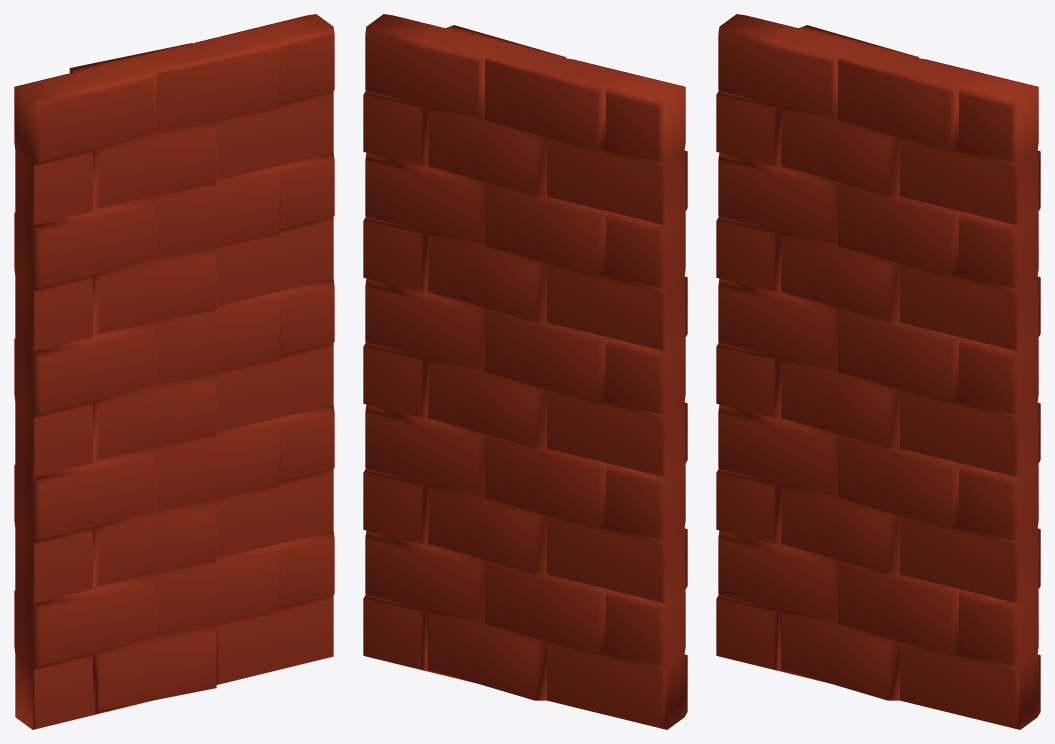
3 views of the same model, side by side, from view 1: azimuth 30°, elevation 25°; view 2: azimuth 150°, elevation 25°; view 3: azimuth 330°, elevation 25° (orthographic).
Parts seen in each view (by area): view 1: BrickWall.001; view 2: BrickWall.001; view 3: BrickWall.001.
Boxes of the visible parts, box(x1,y1,x2,y2) form: BrickWall.001: box(14, 14, 334, 729); BrickWall.001: box(363, 14, 687, 729); BrickWall.001: box(716, 14, 1040, 729).
Size of what is drawn, in the model's own units: 1.99 by 3.98 by 0.3841.
Materials: 1 (1 with a texture image).
